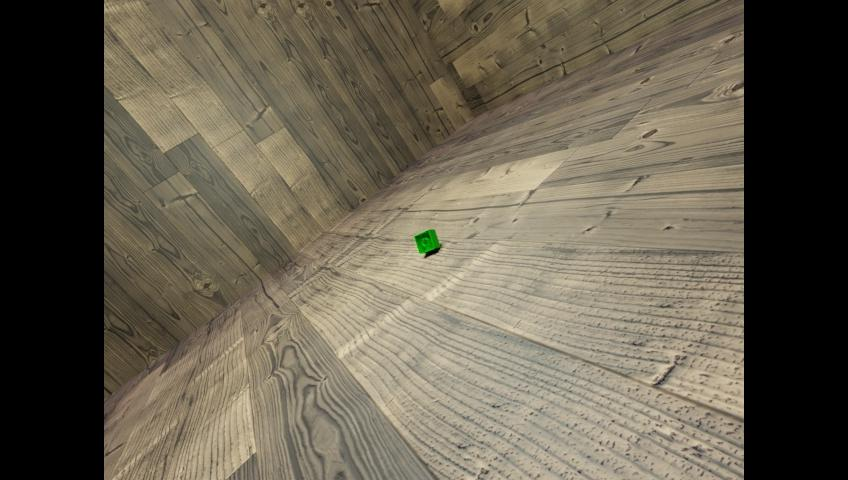2x2_green: (413, 228, 439, 253)
